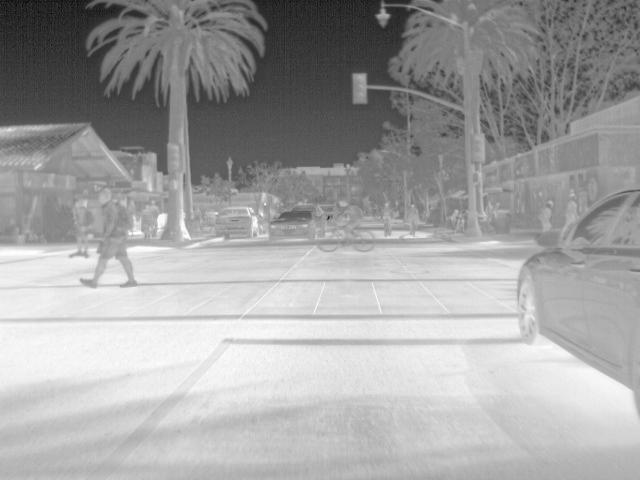car: (517, 187, 639, 417), (268, 212, 325, 244), (213, 206, 260, 239), (290, 202, 327, 232), (258, 209, 269, 235)
person: (78, 188, 136, 288), (70, 198, 92, 254), (333, 197, 365, 227), (136, 204, 154, 240), (537, 199, 553, 233), (563, 188, 578, 223), (148, 199, 159, 237), (379, 200, 393, 219), (408, 200, 421, 220), (449, 208, 460, 228), (483, 200, 495, 218), (193, 205, 205, 223), (126, 198, 135, 216)
